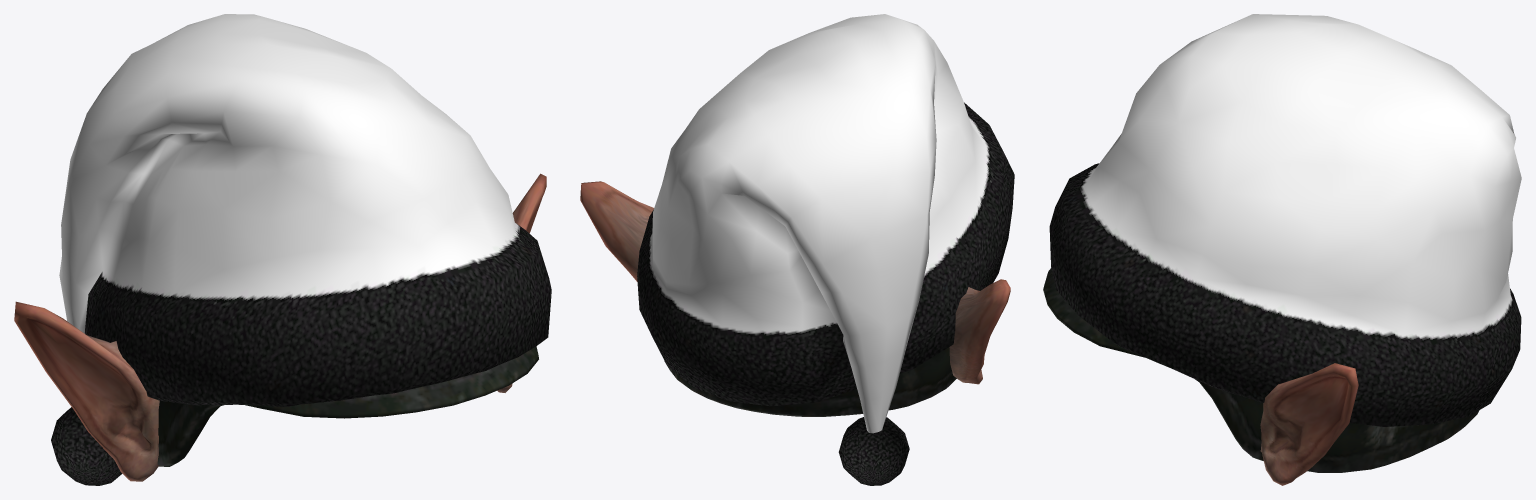
The model's file is SurvivorMale_Head_Helmet_TacticaElfHat_LOD0.glb.
The picture shows the model from 3 angles, left to right: view 1: azimuth 30°, elevation 25°; view 2: azimuth 150°, elevation 25°; view 3: azimuth 270°, elevation 25°; orthographic projection. The views are drawn at different scales.
Parts seen in each view (by area): view 1: Hoodie; view 2: Hoodie; view 3: Hoodie.
Part boxes in pixels (bbox=[...]): Hoodie: bbox=[14, 14, 551, 485]; Hoodie: bbox=[580, 14, 1014, 485]; Hoodie: bbox=[1043, 14, 1521, 485].
Bounding box in the file's own units: 0.29 × 0.2444 × 0.254.
Materials: 1 (1 with a texture image).
